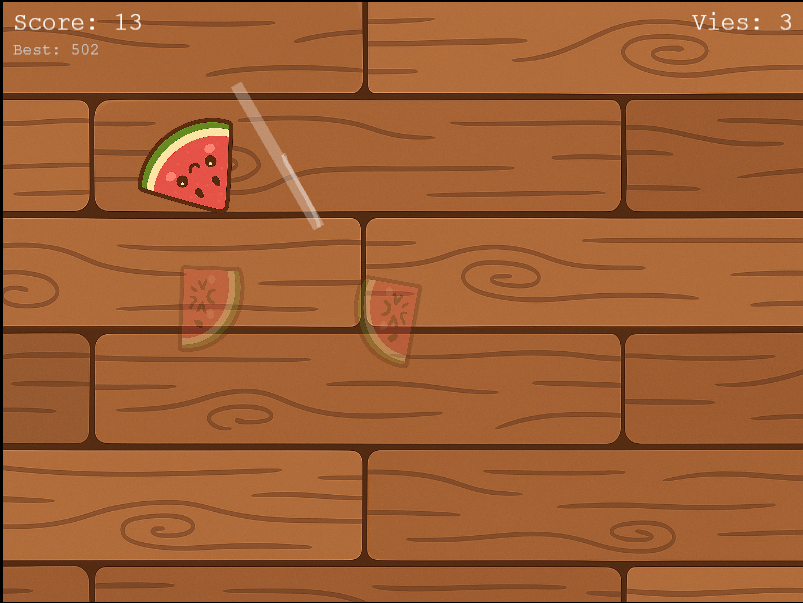fruit: (135, 114, 241, 214)
